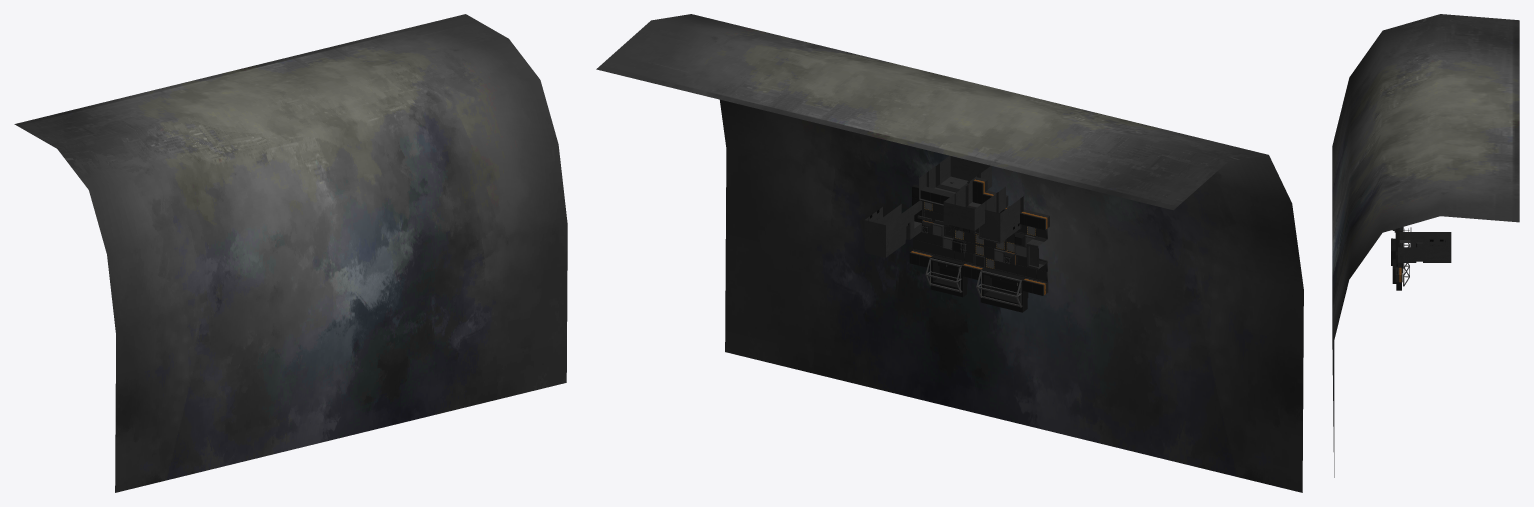
File: BATTLE.fbx
3 renders of one model, left to right at view 1: azimuth 30°, elevation 25°; view 2: azimuth 150°, elevation 25°; view 3: azimuth 270°, elevation 25°, orthographic. The views are drawn at different scales.
Parts seen in each view (by area): view 1: BG_Qcity; view 2: BG_Qcity, S_Outworld_prop_0737, S_Outworld_prop_0780, S_Outworld_prop_00, OP_152, S_Outworld_prop_0783, OP_155; view 3: BG_Qcity, S_Outworld_prop_00, S_Outworld_prop_01.
Boxes of the visible parts, x1,y1,x2,y2 form: BG_Qcity: (14,14,567,492); BG_Qcity: (596,14,1303,492); S_Outworld_prop_0737: (919,156,991,205); S_Outworld_prop_0780: (943,179,1005,230); S_Outworld_prop_00: (864,207,904,257); OP_152: (980,267,1028,312); S_Outworld_prop_0783: (978,196,1023,243); OP_155: (930,255,967,297); BG_Qcity: (1332,14,1519,477); S_Outworld_prop_00: (1424,232,1451,262); S_Outworld_prop_01: (1398,232,1424,262).
Bounding box in the file's own units: 0.5613 × 0.3583 × 0.2194.
